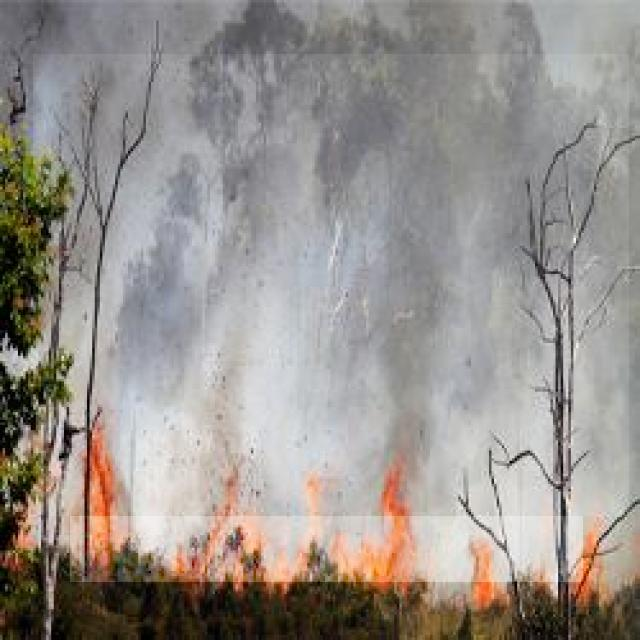Fire: (70, 441, 583, 582)
Smoke: (33, 54, 629, 516)
